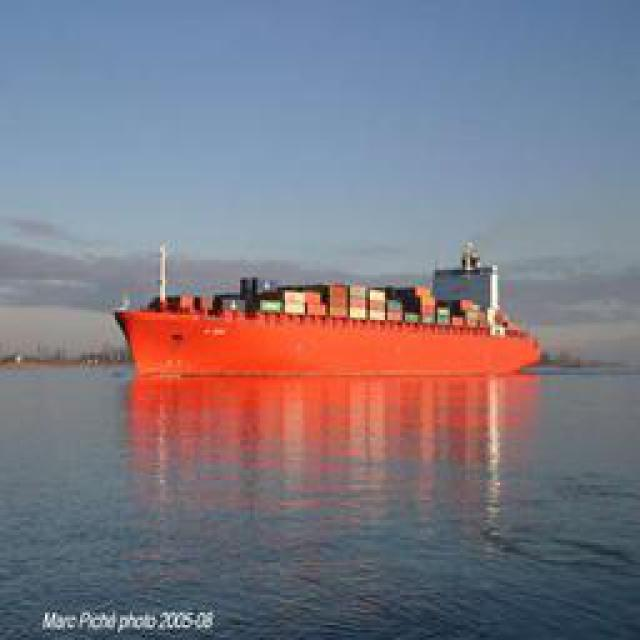Ship: (114, 234, 549, 384)
